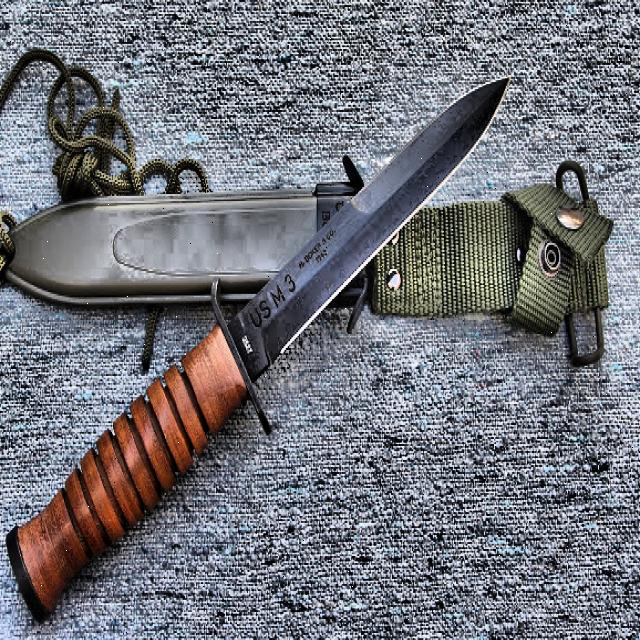knife: (6, 78, 511, 623)
